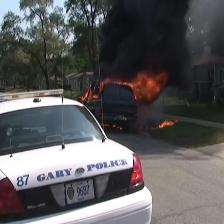smoke: (115, 10, 185, 72)
